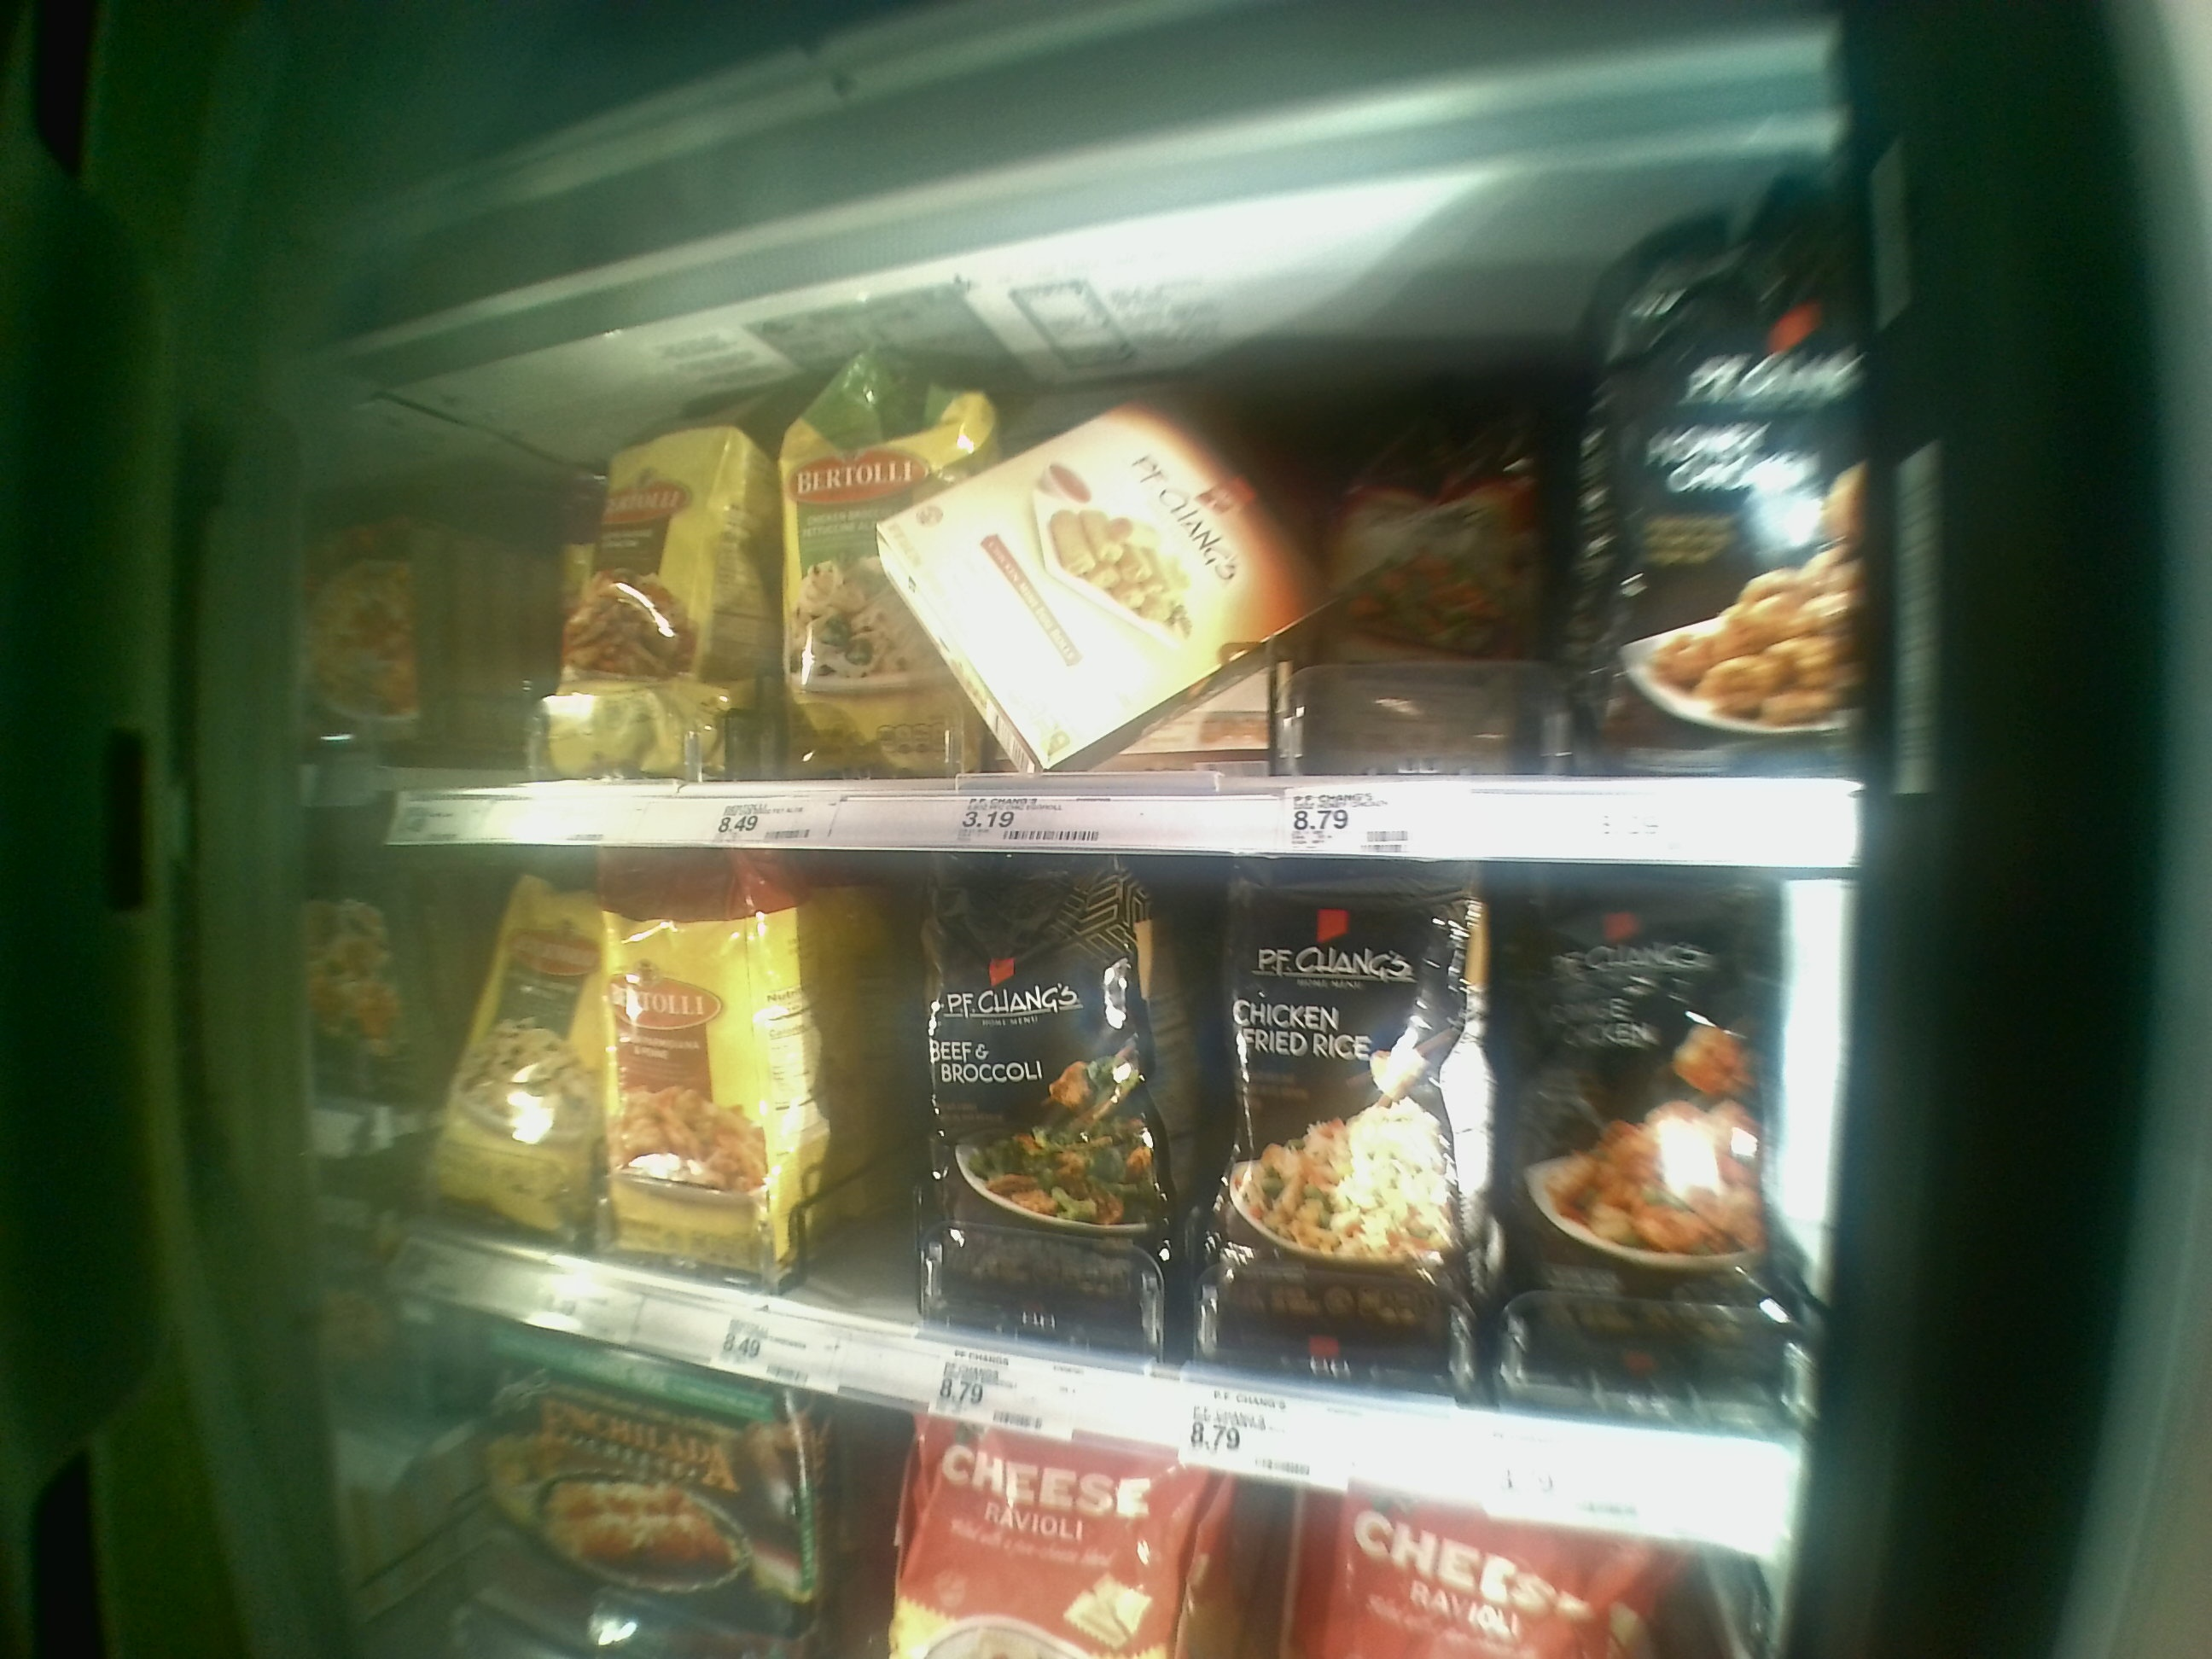shelf: (355, 842, 1839, 1556), (355, 202, 1857, 854)
